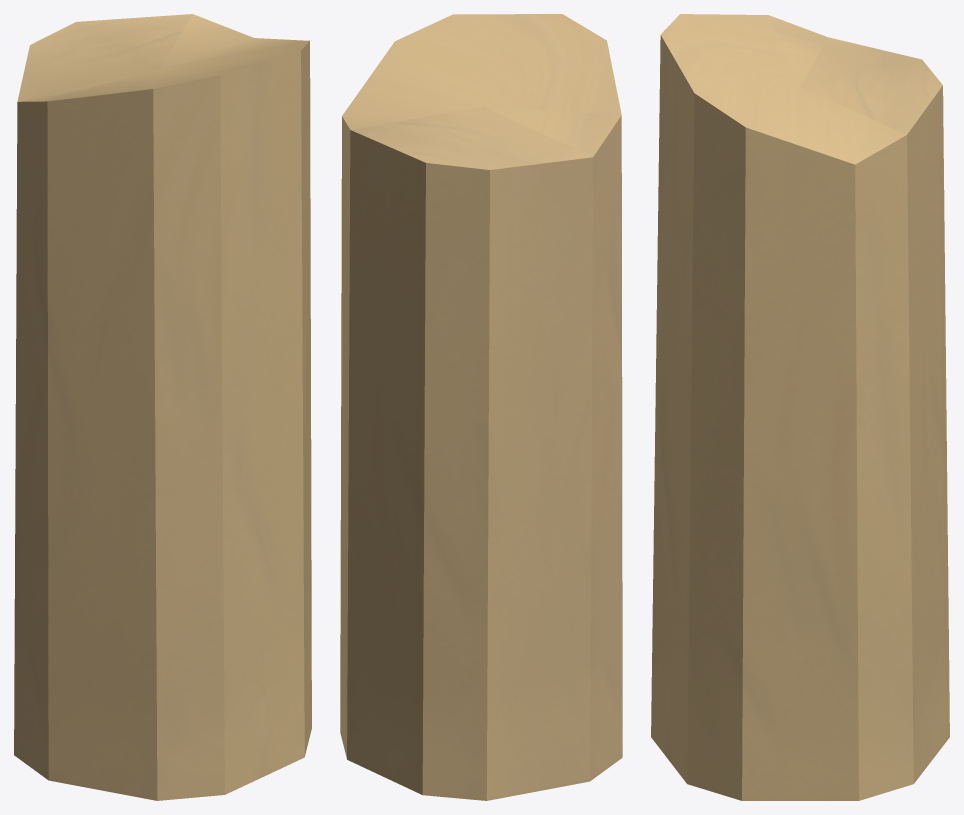
Rendered from ColumnD.FBX.
3 renders of one model, left to right at view 1: azimuth 30°, elevation 25°; view 2: azimuth 150°, elevation 25°; view 3: azimuth 270°, elevation 25°, orthographic. The views are drawn at different scales.
Visible parts, largest first — view 1: ColumnD; view 2: ColumnD; view 3: ColumnD.
Boxes of the visible parts, x1,y1,x2,y2 form: ColumnD: (14,14,311,800); ColumnD: (340,14,622,800); ColumnD: (651,14,949,800).
Bounding box in the file's own units: 7.87 × 8.27 × 21.46.
Materials: 1 (1 with a texture image).
